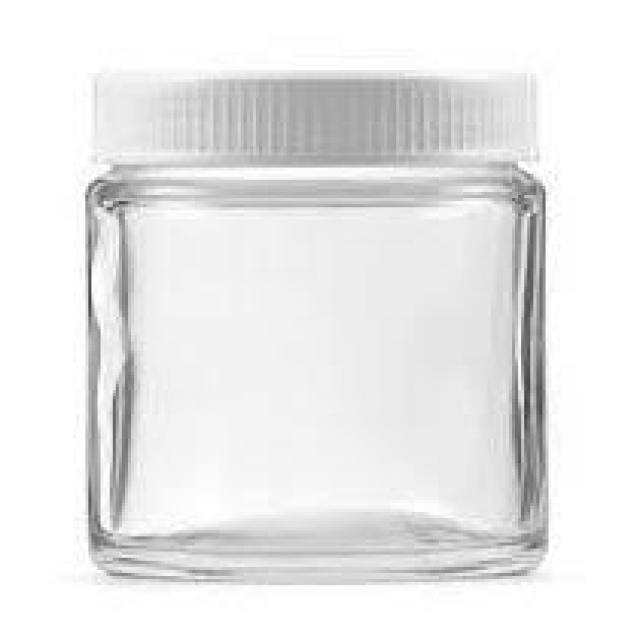non-organic waste: (79, 64, 552, 591)
